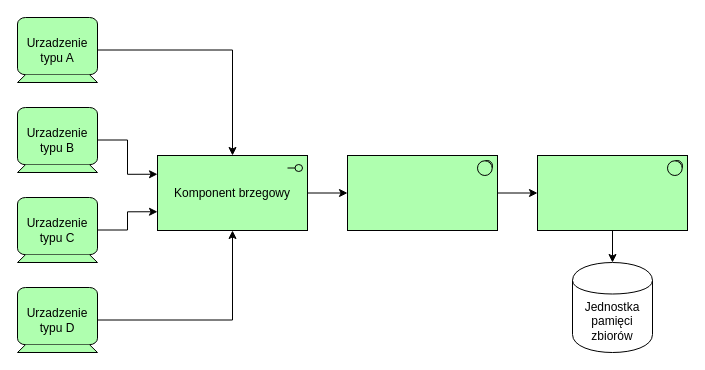
The diagram is 705 pixels wide and 370 high, and some of its shapes have lost their labels. Each missing label, with the centre of its shape:
"Główny procesor" belongs at pixel 422 192.
"Maszyna zarzadzania zbiorami" belongs at pixel 612 192.
